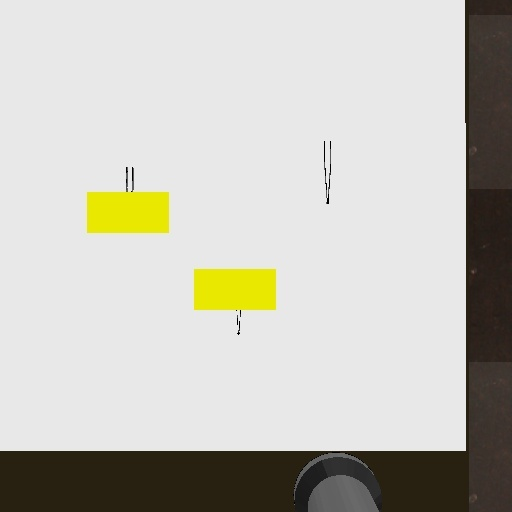pinza: (319, 137, 338, 207), (120, 163, 140, 192), (230, 308, 247, 340)
